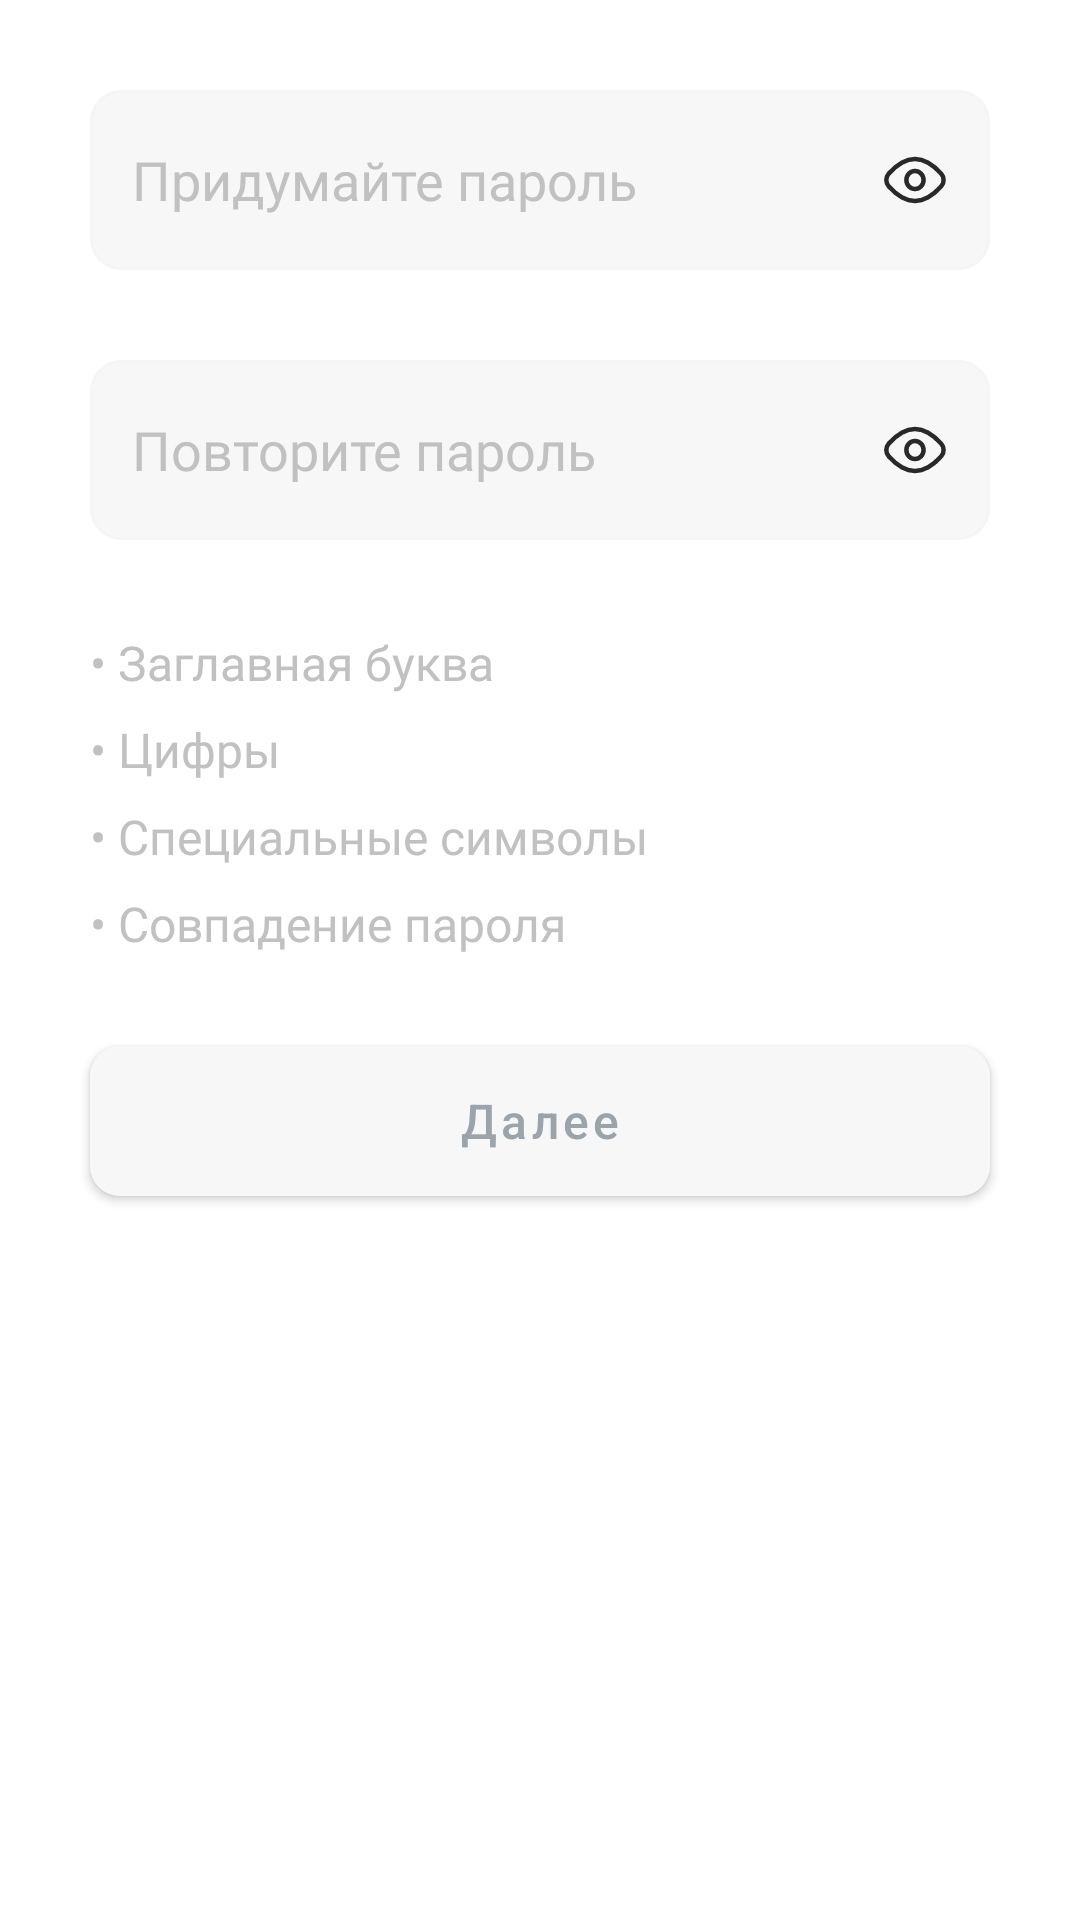

Locate icon controls on the screen. Image size 1080 × 1920, boxes as detection(x1, y1, x2, y2).
password: detection(884, 156, 946, 204), detection(884, 426, 946, 474)
